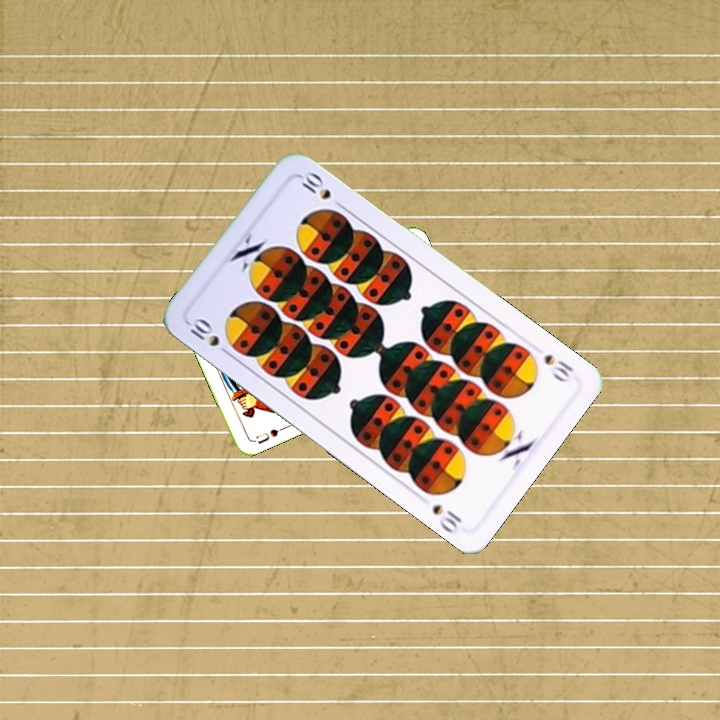S10: (186, 313, 234, 359), (540, 350, 576, 386)
SU: (249, 423, 287, 446)
